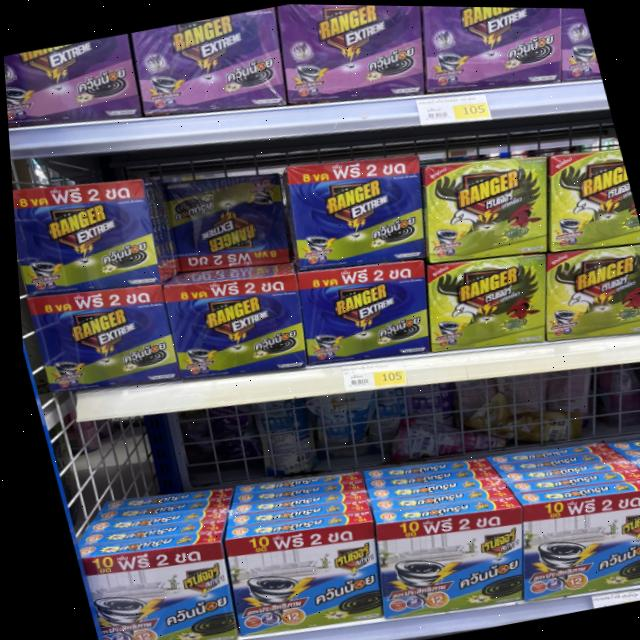empty_shelf: (69, 372, 640, 552), (148, 177, 290, 280)
